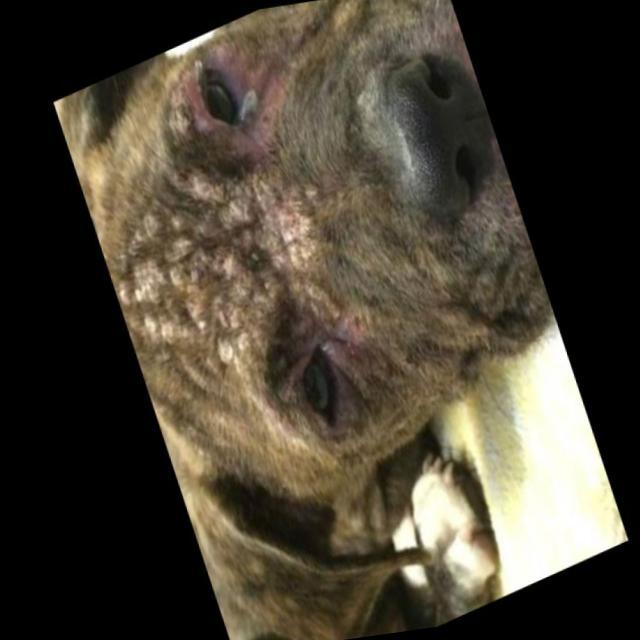allergic dermatitis: (120, 156, 335, 277), (112, 260, 261, 365)
